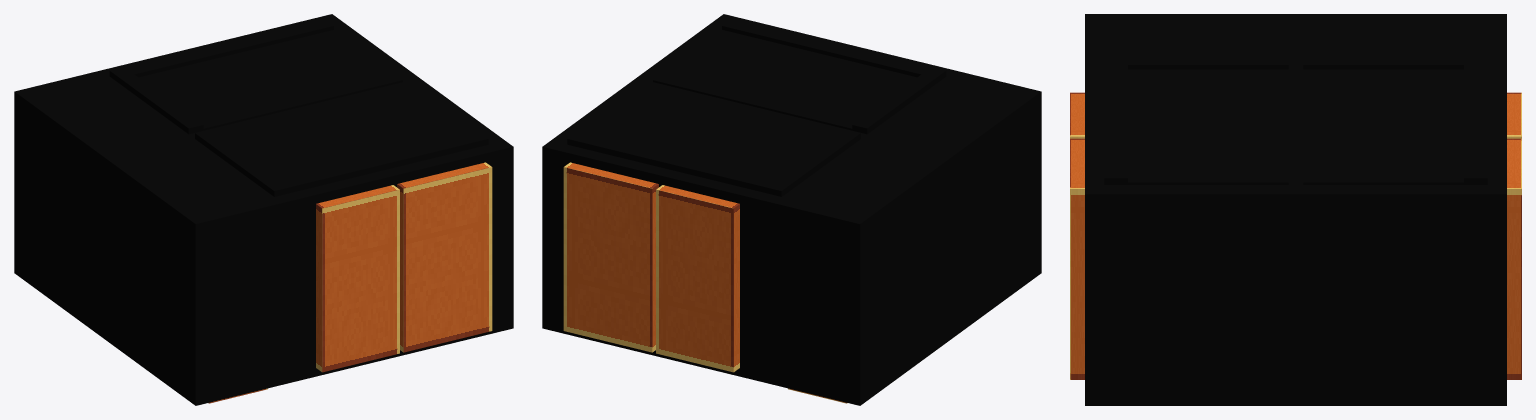
File: bench_leggings_5_hot.obj
The picture shows the model from 3 angles, left to right: view 1: azimuth 30°, elevation 25°; view 2: azimuth 150°, elevation 25°; view 3: azimuth 270°, elevation 25°; orthographic projection. The views are drawn at different scales.
Parts seen in each view (by area): view 1: geometry; view 2: geometry; view 3: geometry.
Part boxes in pixels (box(x1,y1,x2,y2)): geometry: box(14, 14, 513, 405); geometry: box(542, 14, 1041, 405); geometry: box(1070, 14, 1521, 405).
Bounding box in the file's own units: 0.4335 × 0.25 × 0.4587.
